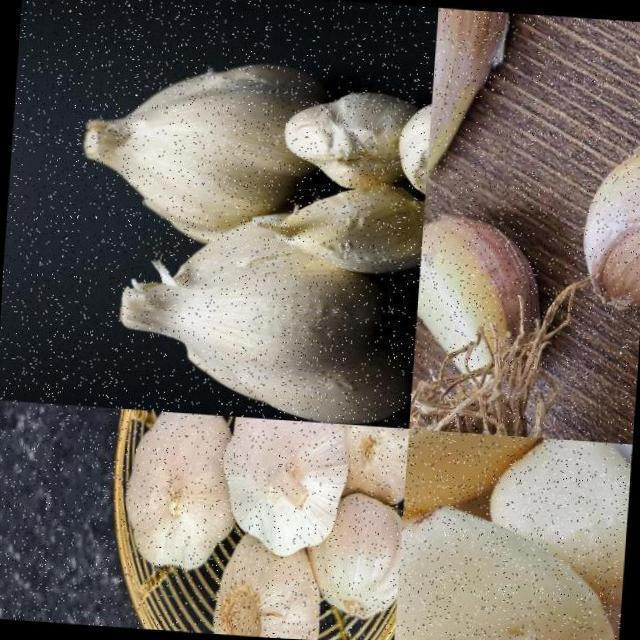garlic: (110, 208, 422, 428), (71, 50, 322, 252), (395, 427, 633, 640), (412, 209, 586, 402), (424, 8, 560, 218), (118, 408, 242, 574), (216, 416, 346, 556), (267, 174, 426, 274), (213, 506, 329, 640), (286, 78, 412, 192), (304, 496, 404, 626), (579, 147, 640, 309), (316, 422, 408, 510), (391, 92, 432, 200)
